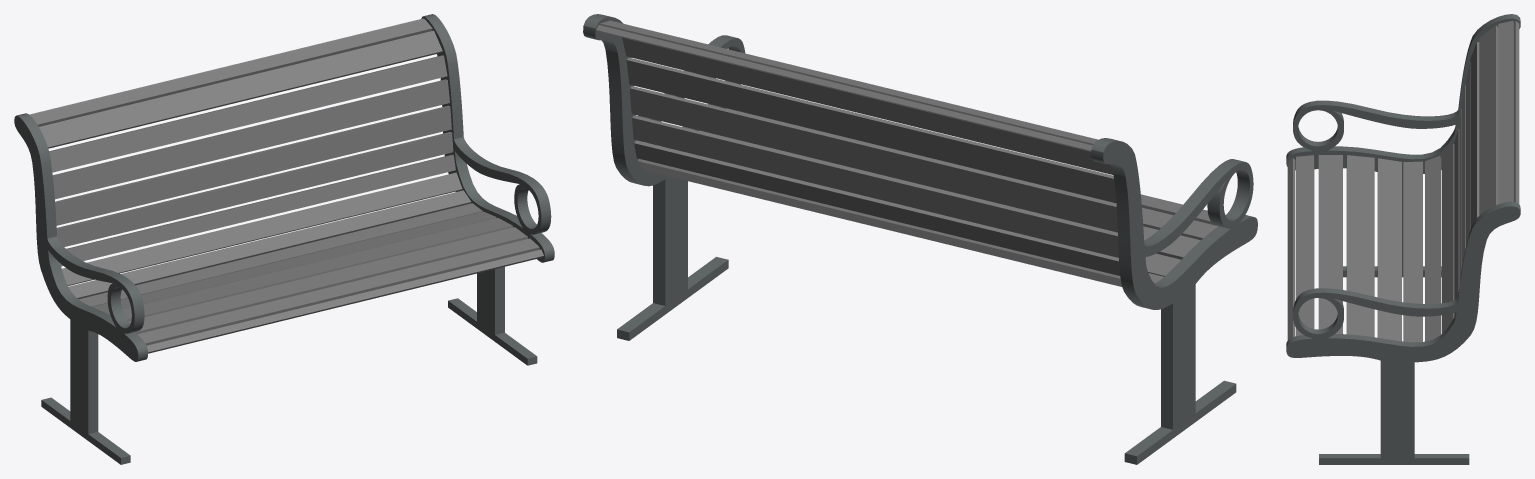
File: Banca1.obj
3 renders of one model, left to right at view 1: azimuth 30°, elevation 25°; view 2: azimuth 150°, elevation 25°; view 3: azimuth 270°, elevation 25°, orthographic. The views are drawn at different scales.
Parts seen in each view (by area): view 1: Bank_03:Shape001, Bank_03:Line002, Bank_03:Line001; view 2: Bank_03:Shape001, Bank_03:Line002, Bank_03:Line001; view 3: Bank_03:Shape001, Bank_03:Line001, Bank_03:Line002.
Part boxes in pixels (<box>): Bank_03:Shape001: <box>29,18,543,353</box>; Bank_03:Line002: <box>14,113,147,464</box>; Bank_03:Line001: <box>421,14,554,365</box>; Bank_03:Shape001: <box>596,20,1217,286</box>; Bank_03:Line002: <box>1091,138,1257,464</box>; Bank_03:Line001: <box>583,14,745,340</box>; Bank_03:Shape001: <box>1287,20,1519,342</box>; Bank_03:Line001: <box>1286,201,1520,464</box>; Bank_03:Line002: <box>1286,14,1520,277</box>.
Size of the model in its own units: 7.22 by 4.53 by 3.72.
Materials: 3 (2 with a texture image).
